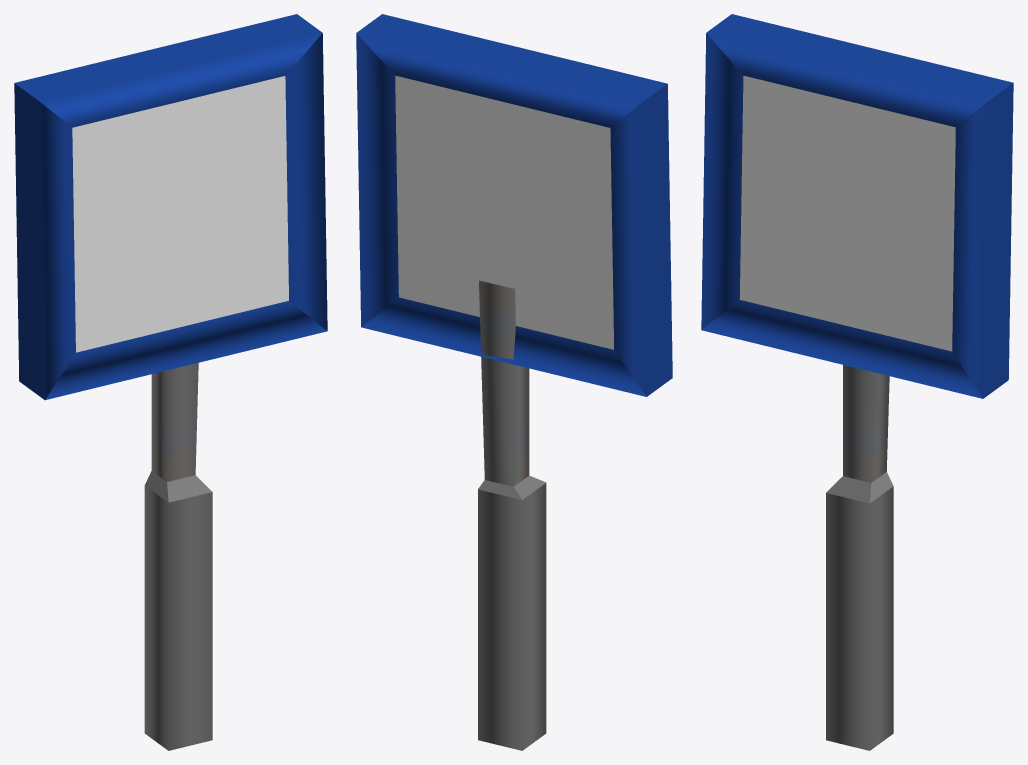
File: SM_Road_Sing1.fbx
3 renders of one model, left to right at view 1: azimuth 30°, elevation 25°; view 2: azimuth 150°, elevation 25°; view 3: azimuth 330°, elevation 25°, orthographic.
Visible parts, largest first — view 1: SM_Road_Sing1; view 2: SM_Road_Sing1; view 3: SM_Road_Sing1.
Part boxes in pixels (x1,y1,x2,y2): SM_Road_Sing1: (14,14,327,750); SM_Road_Sing1: (356,14,672,750); SM_Road_Sing1: (701,14,1013,750).
Size of the model in its own units: 127 by 291 by 23.86.
